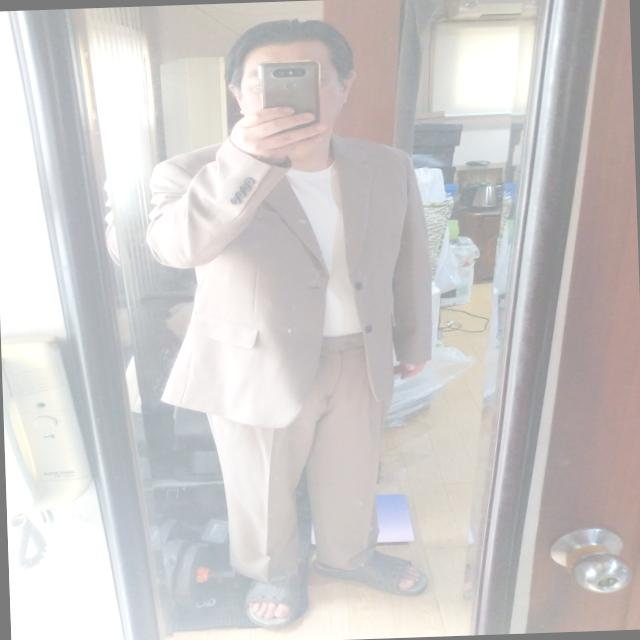blazer: (144, 128, 440, 430)
slacks: (207, 325, 390, 582)
